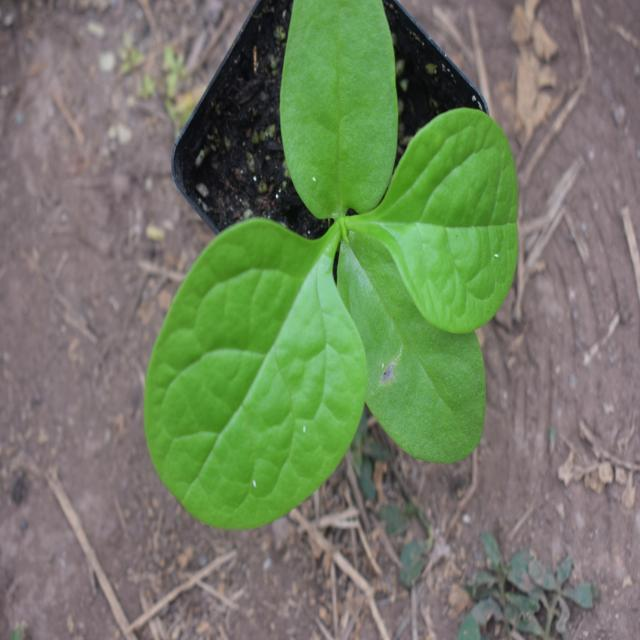Ceylon spinach: (135, 66, 520, 485)
